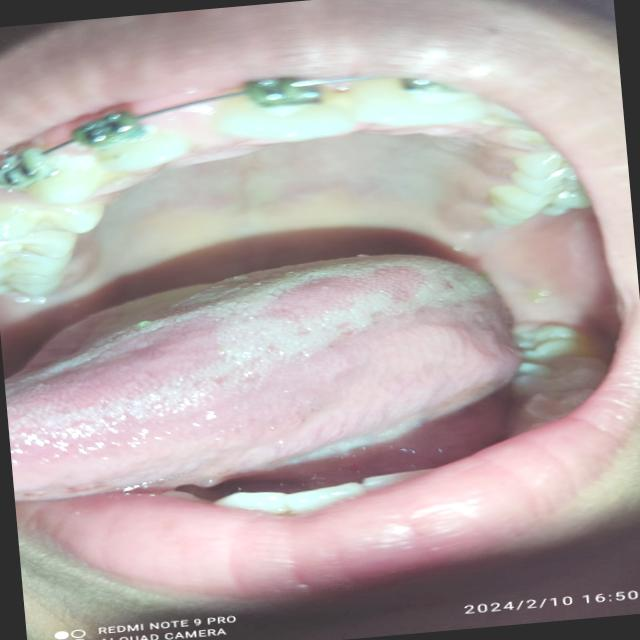No Cancer: (26, 113, 600, 399)
